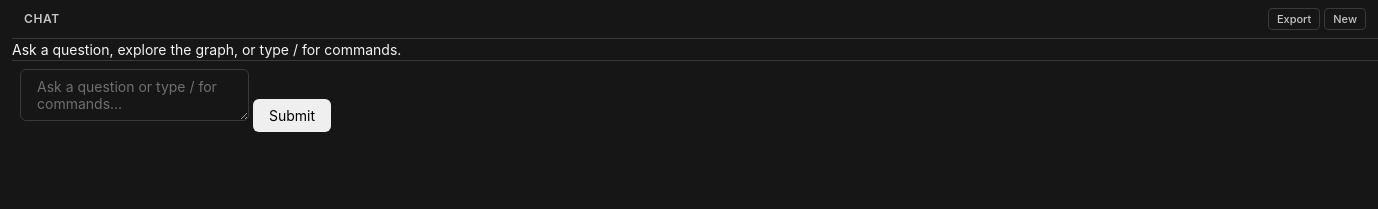
it: ChatPanel — commands pass-through › passes commands to ChatInput — slash menu appears when '/' is typed
In the text box with test id "chat-input": (134, 95) top-left (20, 69), bottom-right (249, 121), type "/"
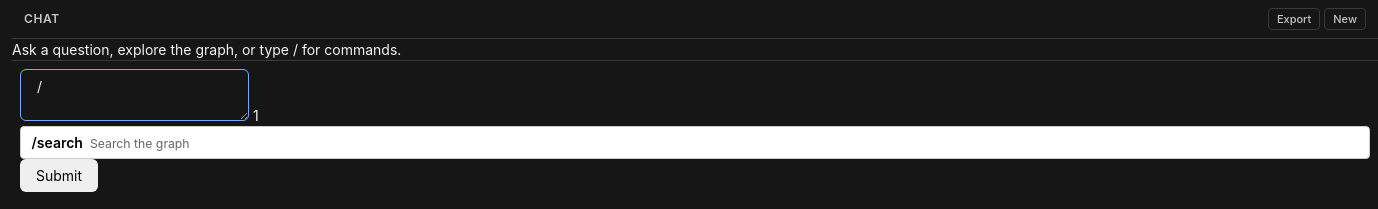
Check: the list with test id "slash-command-menu" is shown, box top-left (20, 126), bottom-right (1370, 159)
